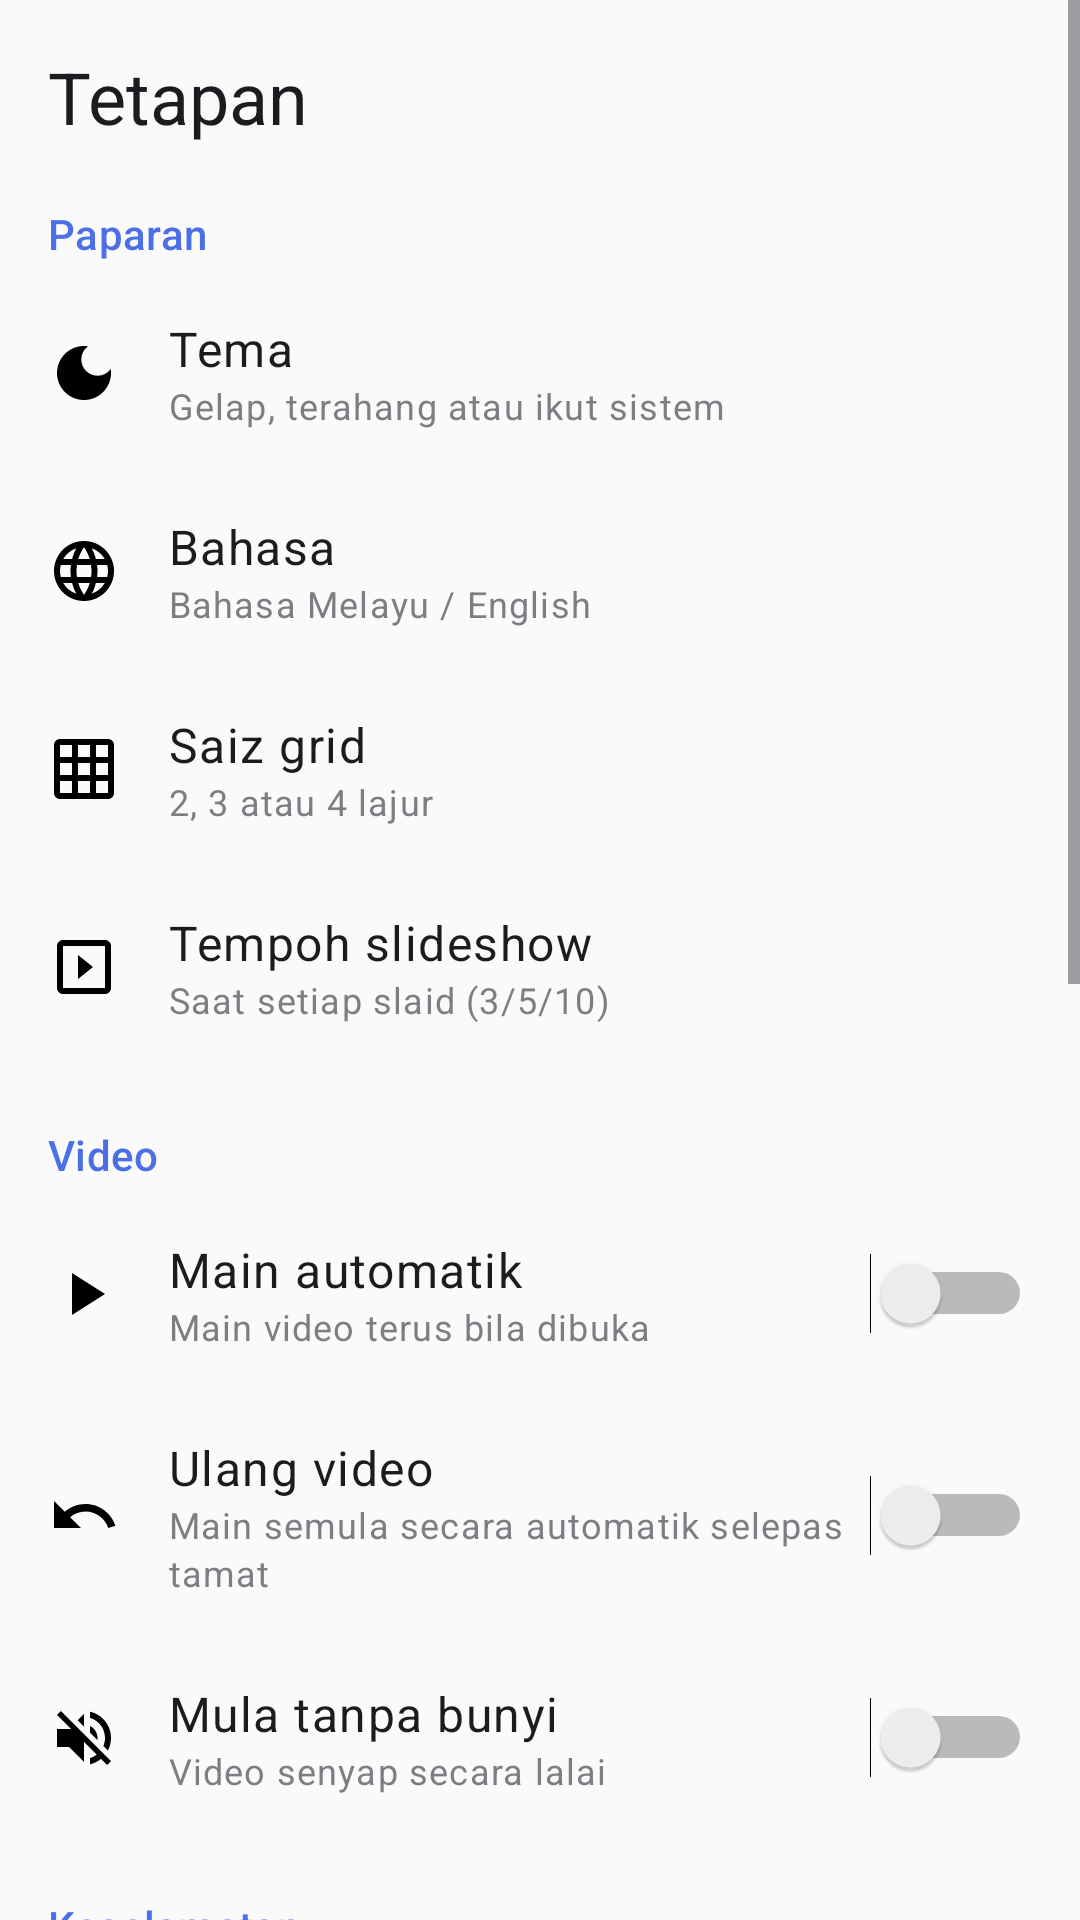

Named icons in this screenshot (1080px x 1920px) and their bounding boxes, (x1, y1, x2, y2):
grid on: (54, 739, 114, 799)
language: (54, 541, 114, 601)
mode: (57, 346, 111, 400)
play arrow: (72, 1273, 105, 1315)
undo: (54, 1501, 116, 1528)
volume off: (57, 1711, 111, 1765)
